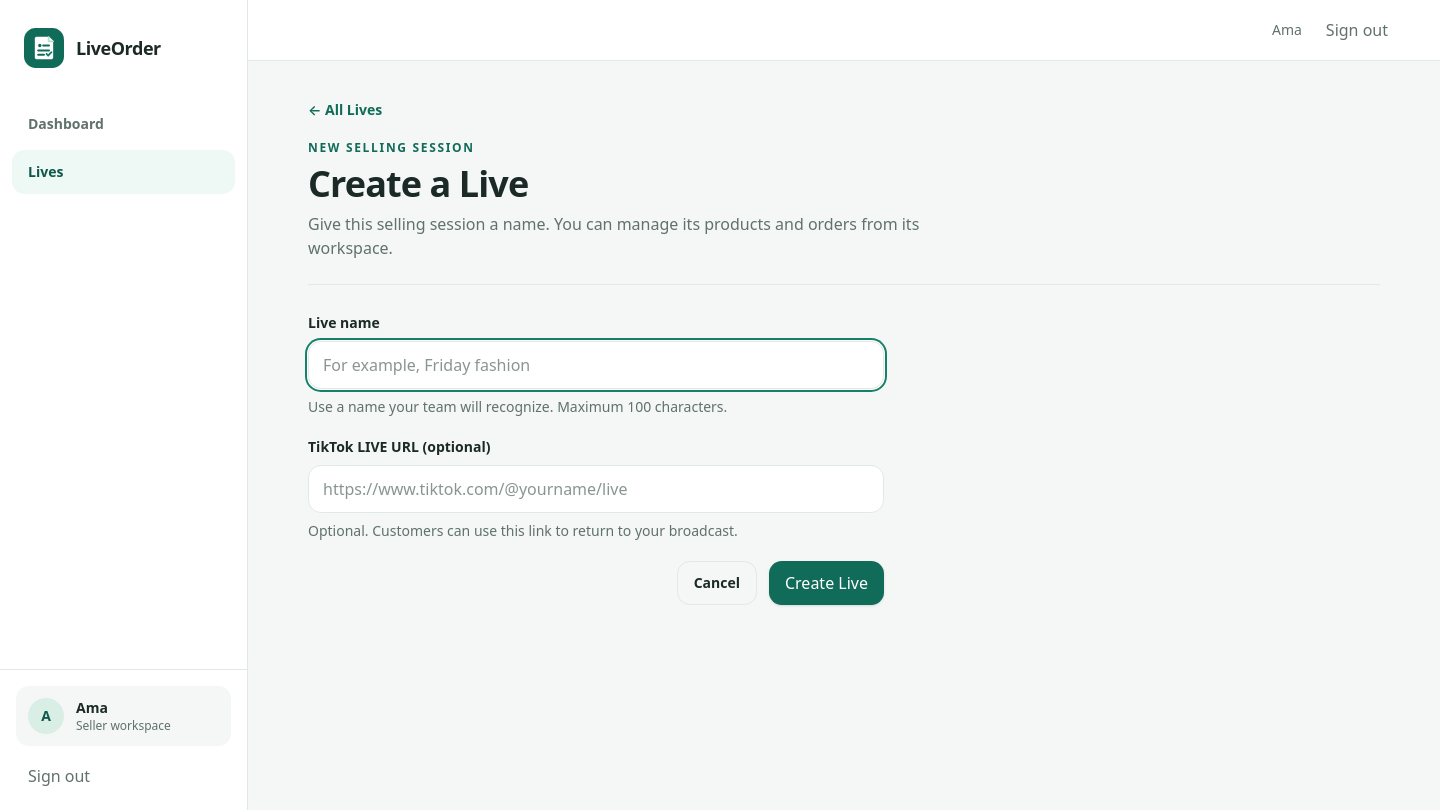
seller Live management › shows backend validation errors when Live creation is rejected
Type "A valid name" into the field labelled "Live name" at (596, 365), box top-left (308, 341), bottom-right (884, 389)
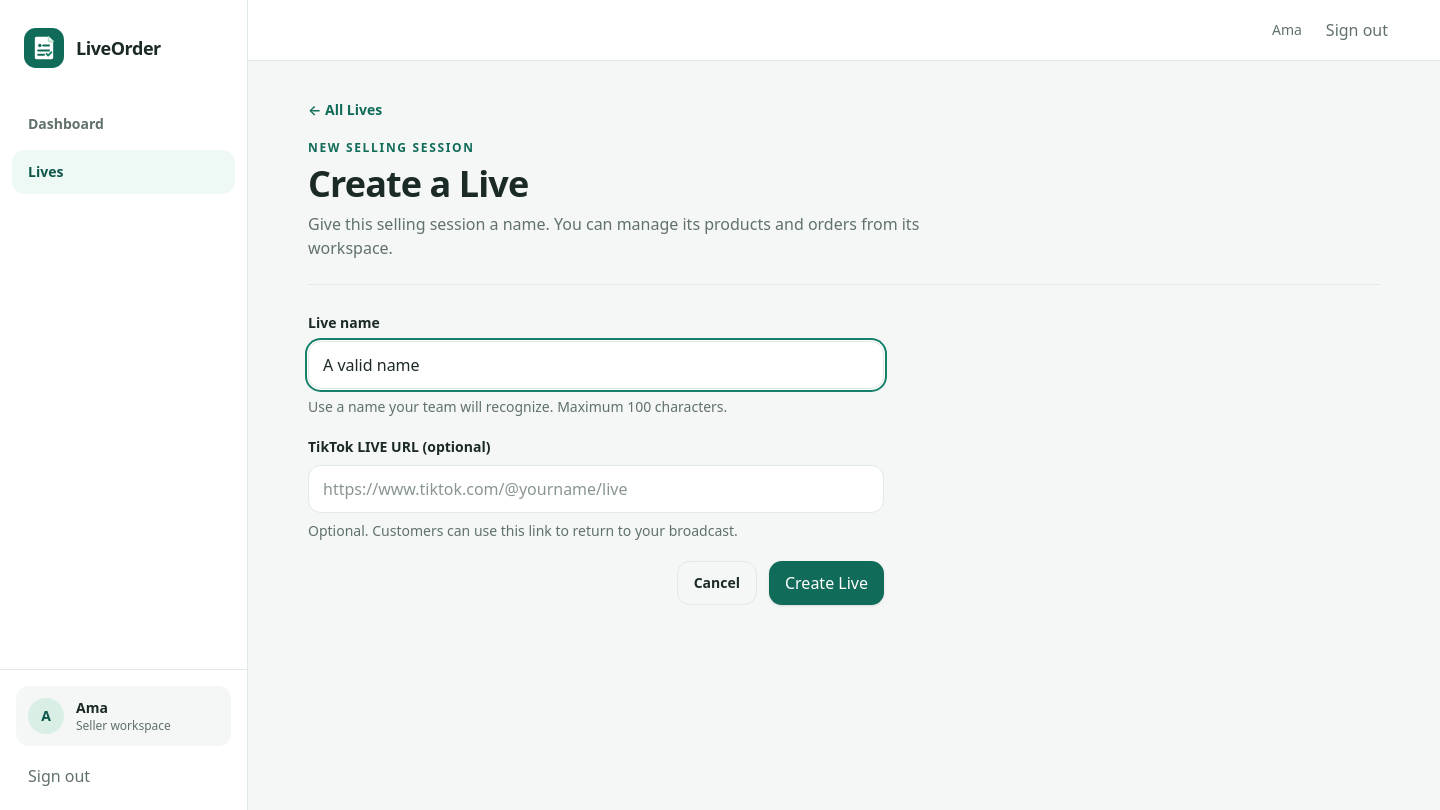
Click the button "Create Live" at (826, 583), box top-left (769, 561), bottom-right (884, 605)
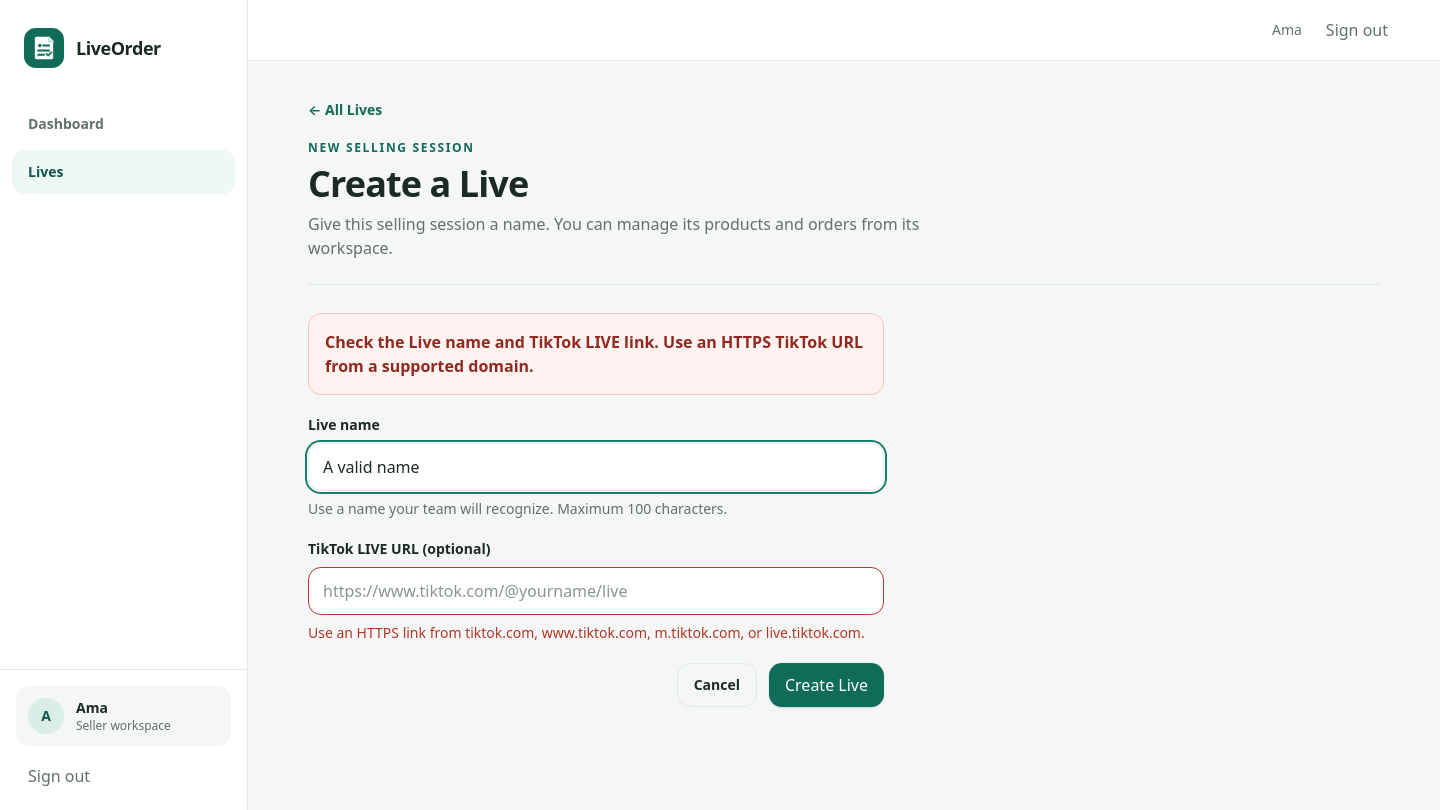
Check: the button "Create Live" is enabled, box top-left (769, 663), bottom-right (884, 707)
Check: the text "Use an HTTPS link from tiktok.com, www.tiktok.com, m.tiktok.com, or live.tiktok.com." is shown, box top-left (308, 623), bottom-right (865, 642)
